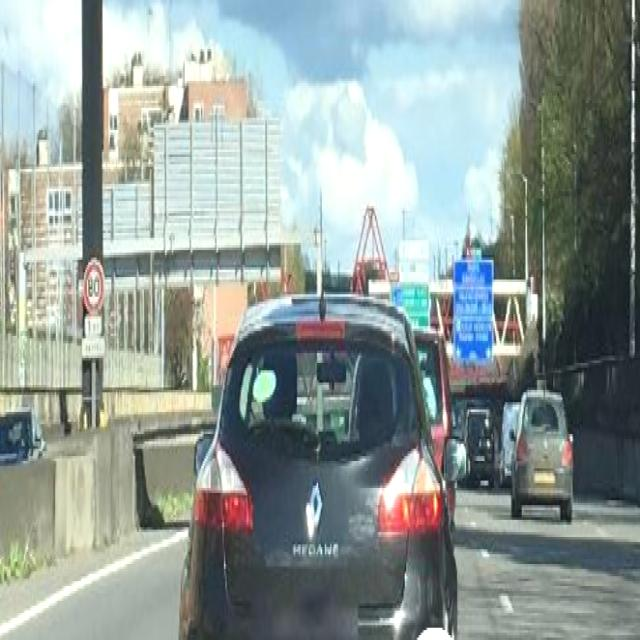speed_80: (85, 260, 104, 312)
